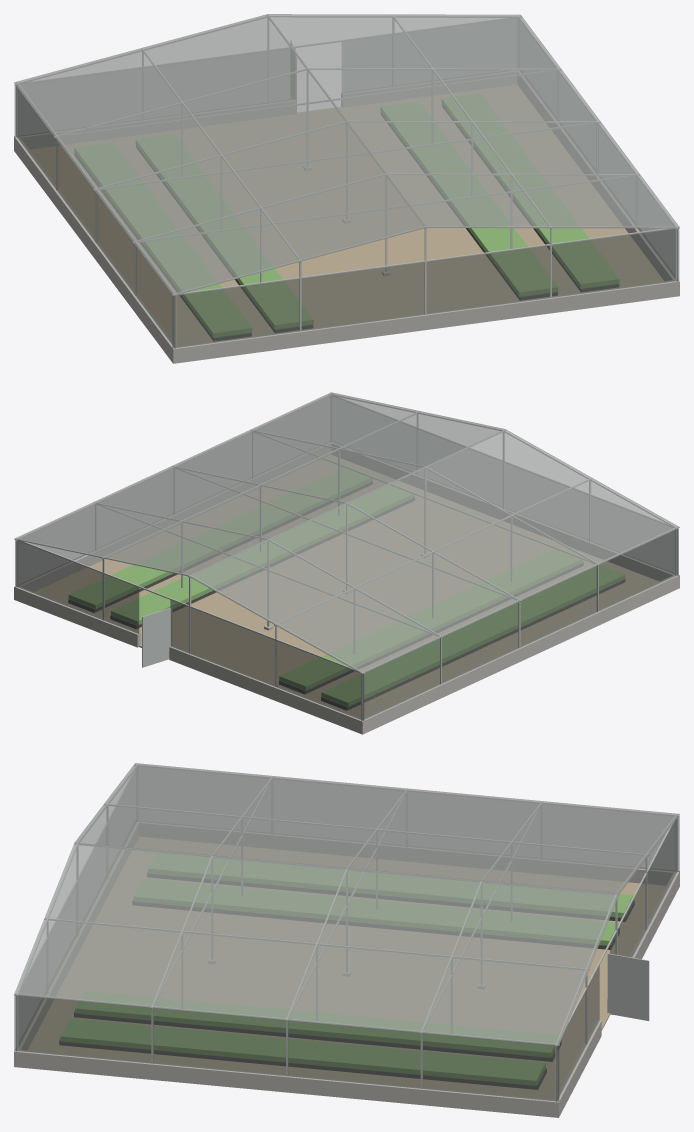
The model's file is rares_nursery_b.glb.
3 renders of one model, top to bottom at view 1: azimuth 30°, elevation 25°; view 2: azimuth 150°, elevation 25°; view 3: azimuth 270°, elevation 25°, orthographic. The views are drawn at different scales.
Parts seen in each view (by area): view 1: NB_RoofNet_W, NB_Floor, NB_RoofNet_E, NB_Net_S, NB_Net_NL, NB_Knee_S, NB_Seedling_-6.6, NB_Net_W, NB_Seedling_4.4, NB_Seedling_-4.4, NB_Net_NR, NB_Seedling_6.6 (+28 smaller); view 2: NB_RoofNet_W, NB_Floor, NB_RoofNet_E, NB_Net_W, NB_Net_S, NB_Net_E, NB_Net_NL, NB_Seedling_-6.6, NB_Seedling_-4.4, NB_Seedling_6.6, NB_Seedling_4.4, NB_Net_NR (+20 smaller); view 3: NB_RoofNet_E, NB_Floor, NB_RoofNet_W, NB_Net_E, NB_Net_W, NB_Seedling_6.6, NB_Seedling_-4.4, NB_Seedling_4.4, NB_Knee_E, NB_Seedling_-6.6, NB_Knee_W, NB_Net_S (+16 smaller).
Boxes of the visible parts, x1,y1,x2,y2 form: NB_RoofNet_W: (14,14,426,295); NB_Floor: (30,85,663,345); NB_RoofNet_E: (267,14,679,228); NB_Net_S: (172,228,679,347); NB_Net_NL: (14,49,295,136); NB_Knee_S: (171,280,676,363); NB_Seedling_-6.6: (74,142,251,337); NB_Net_W: (16,86,175,348); NB_Seedling_4.4: (380,102,557,296); NB_Seedling_-4.4: (136,134,313,329); NB_Net_NR: (342,19,516,92); NB_Seedling_6.6: (442,93,619,288); NB_RoofNet_W: (188,429,679,674); NB_Floor: (35,455,658,717); NB_RoofNet_E: (14,392,505,576); NB_Net_W: (361,529,678,720); NB_Net_S: (333,397,678,575); NB_Net_E: (15,397,329,587); NB_Net_NL: (170,599,364,720); NB_Seedling_-6.6: (321,565,624,706); NB_Seedling_-4.4: (279,549,582,690); NB_Seedling_6.6: (69,468,372,608); NB_Seedling_4.4: (111,485,414,625); NB_Net_NR: (15,540,139,633); NB_RoofNet_E: (14,842,619,1046); NB_Floor: (28,837,665,1099); NB_RoofNet_W: (74,763,679,893); NB_Net_E: (14,995,559,1101); NB_Net_W: (139,767,679,871); NB_Seedling_6.6: (61,1019,545,1085); NB_Seedling_-4.4: (134,879,618,945); NB_Seedling_4.4: (75,991,558,1057); NB_Knee_E: (14,1049,559,1117); NB_Seedling_-6.6: (148,853,633,917); NB_Knee_W: (139,822,679,885); NB_Net_S: (16,773,135,1051).
Size of the model in its own units: 21.69 by 3.89 by 21.61.
